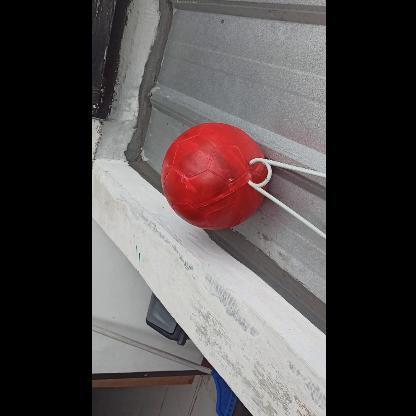red_ball: (159, 122, 268, 230)
